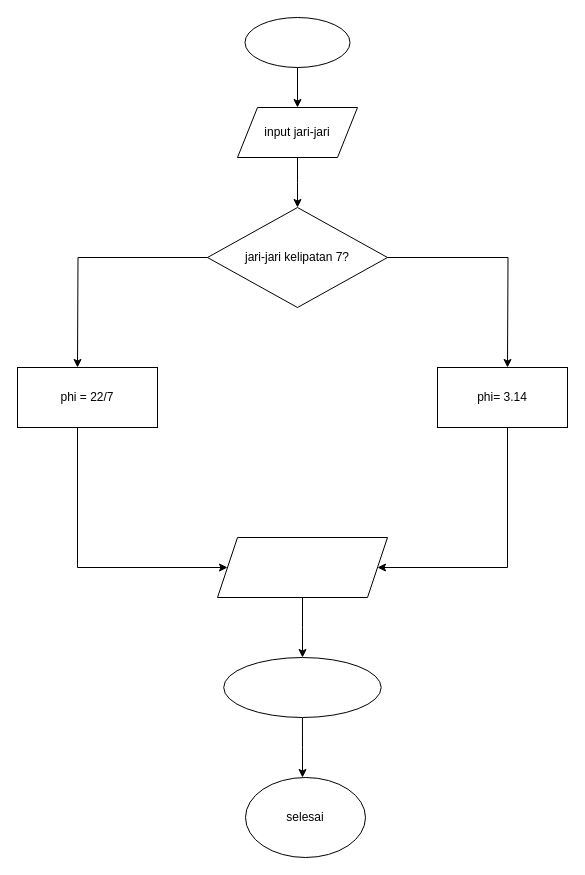
This 585x875 diagram has some shape labels left out. Each missing label, with the centre of its shape:
hitung luas L =Phi x r x r: [302,567]
mulai: [297,42]
tampilkan luas: [302,687]
